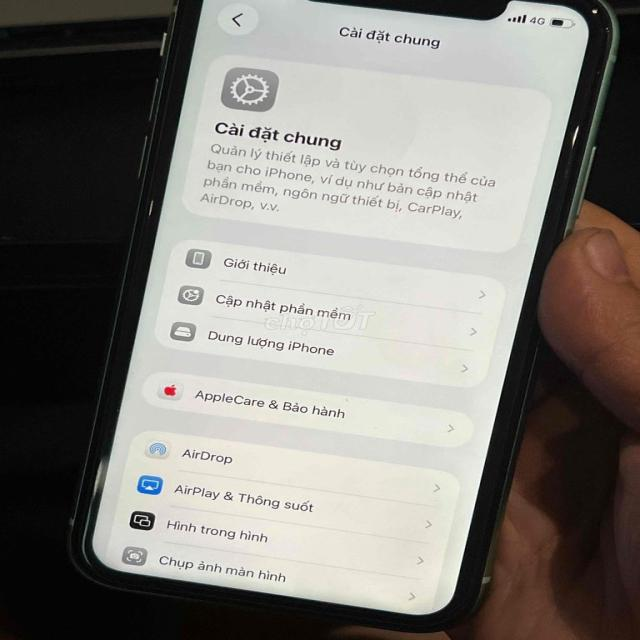gen_11: (66, 0, 640, 629)
scratch: (78, 452, 112, 530), (565, 117, 583, 148)
